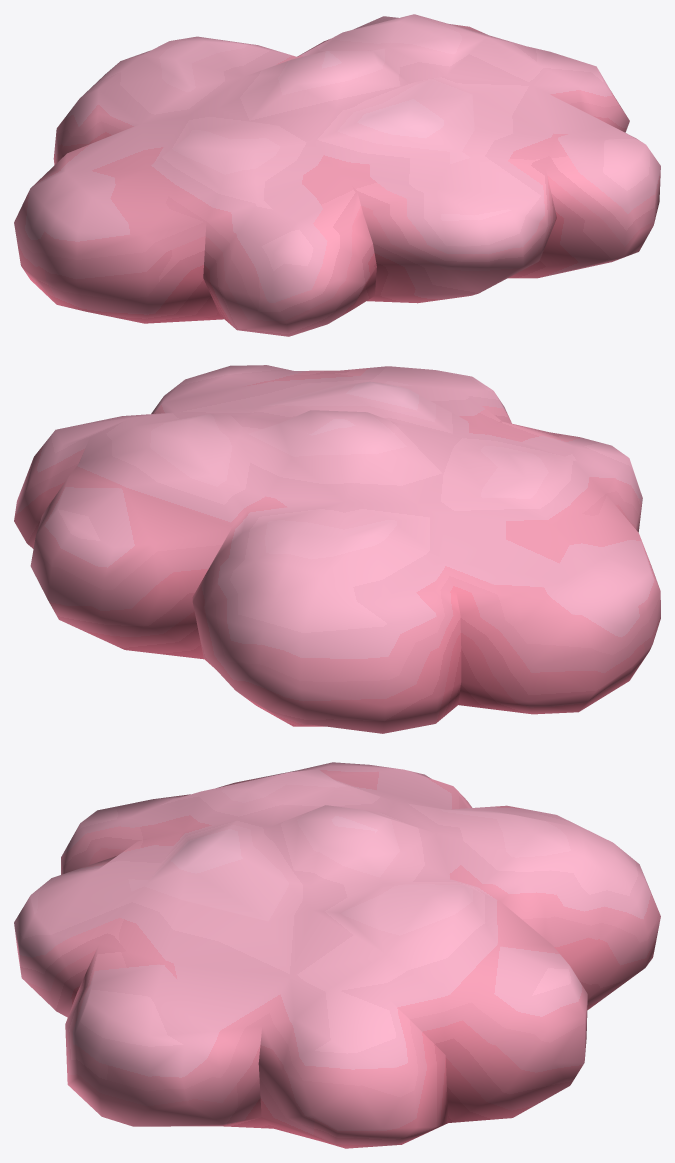
Rendered from parisBoard01.glb.
The picture shows the model from 3 angles, top to bottom: view 1: azimuth 30°, elevation 25°; view 2: azimuth 150°, elevation 25°; view 3: azimuth 270°, elevation 25°; orthographic projection. The views are drawn at different scales.
Parts seen in each view (by area): view 1: parisBoard01; view 2: parisBoard01; view 3: parisBoard01.
Part boxes in pixels (<box>): parisBoard01: <box>14,14,660,336</box>; parisBoard01: <box>14,365,660,733</box>; parisBoard01: <box>14,762,660,1148</box>.
Bounding box in the file's own units: 7.67 × 2.69 × 6.54.
1 material, 1 textured.
